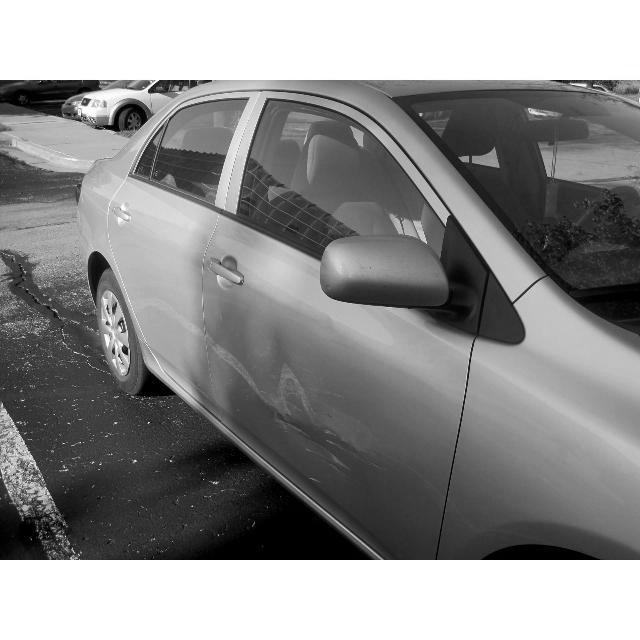doorouter-dent: (215, 300, 467, 512)
